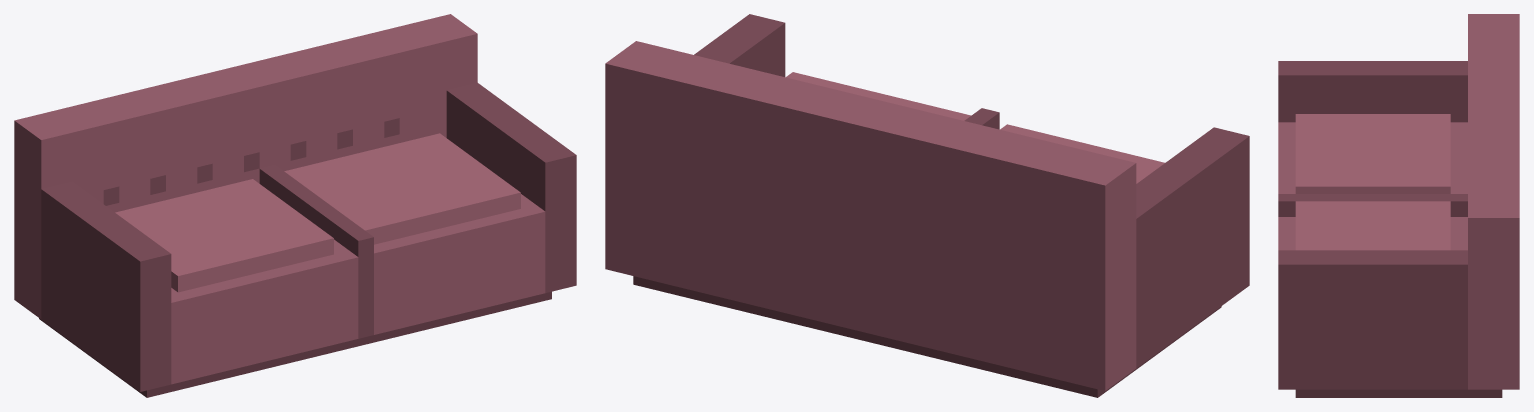
File: sofa_01.glb
The picture shows the model from 3 angles, left to right: view 1: azimuth 30°, elevation 25°; view 2: azimuth 150°, elevation 25°; view 3: azimuth 270°, elevation 25°; orthographic projection. The views are drawn at different scales.
Visible parts, largest first — view 1: sofa; view 2: sofa; view 3: sofa.
Part boxes in pixels (bbox=[...]): sofa: bbox=[14, 14, 576, 397]; sofa: bbox=[605, 14, 1249, 397]; sofa: bbox=[1278, 14, 1519, 397].
Bounding box in the file's own units: 2 × 0.8571 × 1.
